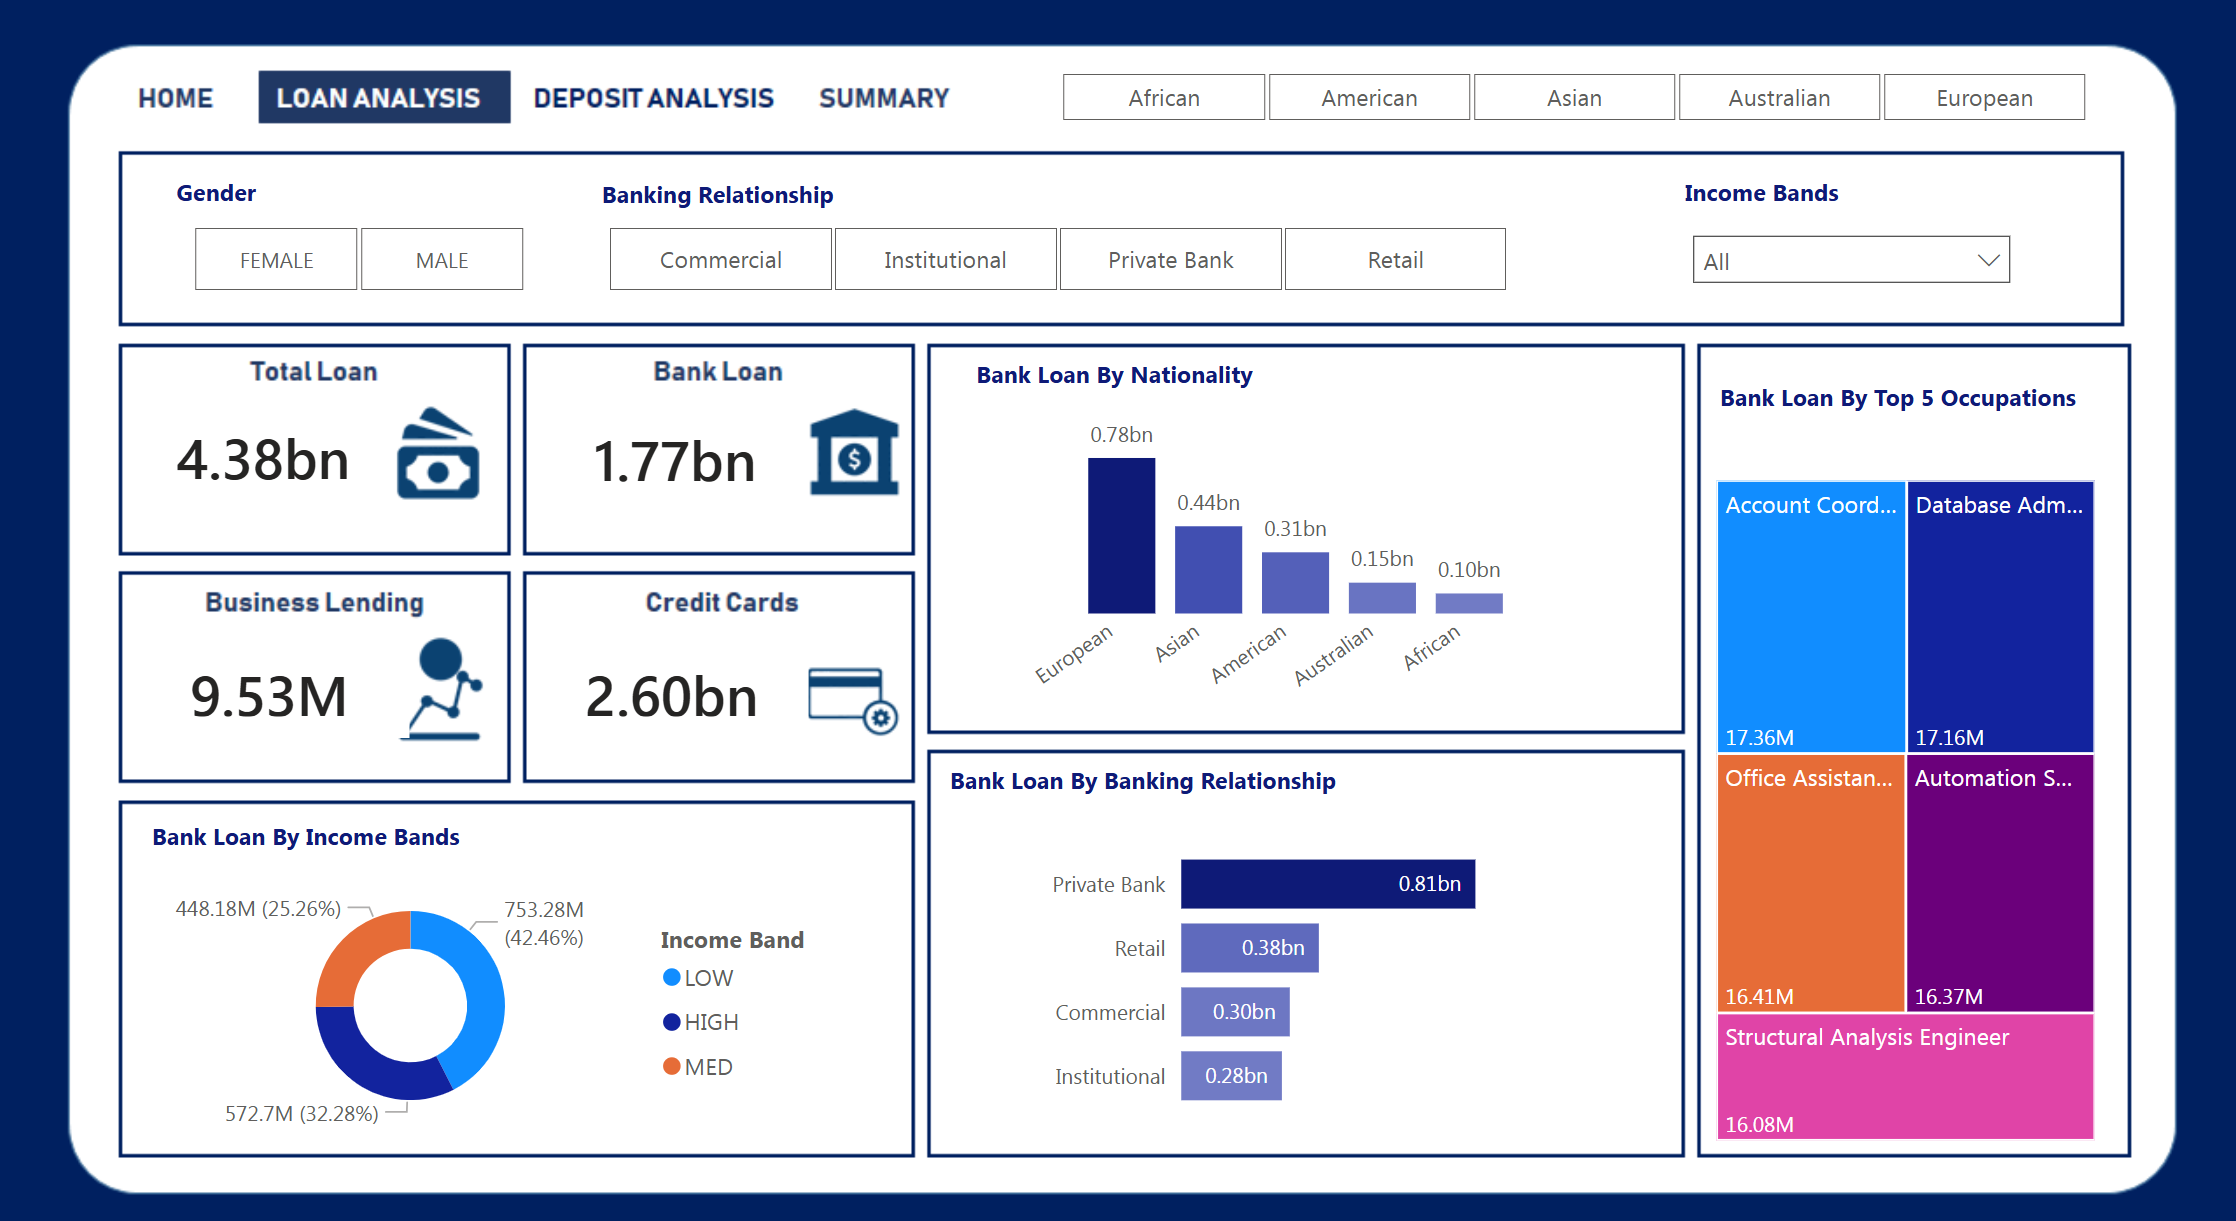

What the dashboard file says about the page in this screenshot:
{"tool":"powerbi","page":{"name":"Loan Analysis","canvas":[1280,720],"ordinal":1},"visuals":[{"type":"actionButton","box":[70,40,65.6,40],"z":0},{"type":"actionButton","box":[302.2,40,141.1,40],"z":1000},{"type":"actionButton","box":[454.4,40,100,40],"z":2000},{"type":"cardVisual","fields":{"Data":["Banking_Clients.total loan"]},"box":[70,232.2,163.3,63.3],"z":3000},{"type":"cardVisual","fields":{"Data":["Sum(Banking_Clients.Bank Loans)"]},"box":[305.6,233.3,162.2,63.3],"z":4000},{"type":"cardVisual","fields":{"Data":["Sum(Banking_Clients.Credit Card Balance)"]},"box":[70,367.8,170,63.3],"z":5000},{"type":"cardVisual","fields":{"Data":["Sum(Banking_Clients.Business Lending)"]},"box":[302.2,367.8,165.6,63.3],"z":6000},{"type":"donutChart","fields":{"Category":["Banking_Clients.Income Band"],"Y":["Sum(Banking_Clients.Bank Loans)"]},"box":[86.7,504.4,397.8,150],"z":7000},{"type":"barChart","fields":{"Category":["Banking_Clients.BRId"],"Y":["Sum(Banking_Clients.Bank Loans)"]},"box":[590,468,302,186],"z":8000},{"type":"columnChart","fields":{"Category":["Banking_Clients.Nationality"],"Y":["Sum(Banking_Clients.Bank Loans)"]},"box":[583.3,232.2,302.2,186.7],"z":9000},{"type":"treemap","fields":{"Group":["Banking_Clients.Occupation"],"Values":["Sum(Banking_Clients.Bank Loans)"]},"box":[976.7,274.4,226.7,386.7],"z":10000},{"type":"slicer","fields":{"Values":["Banking_Clients.GenderId"]},"box":[86.7,127.8,237.8,48.9],"z":11000},{"type":"slicer","fields":{"Values":["Banking_Clients.Nationality"]},"box":[583.3,40,633.3,40],"z":12000},{"type":"slicer","fields":{"Values":["Banking_Clients.BRId"]},"box":[324.4,127.8,561.1,48.9],"z":13000},{"type":"slicer","fields":{"Values":["Banking_Clients.Income Band"]},"box":[958.9,128.9,201.1,40],"z":14000},{"type":"textbox","box":[97,100,58,28],"z":15000},{"type":"textbox","box":[340,101.1,152.2,27.8],"z":16000},{"type":"textbox","box":[958.9,100,105.6,32.2],"z":17000},{"type":"textbox","box":[83.3,467.8,202.2,27.8],"z":17001},{"type":"textbox","box":[538.9,435.6,240,32.2],"z":17002},{"type":"textbox","box":[554.4,204.4,185.6,27.8],"z":17003},{"type":"textbox","box":[978.9,216.7,224.4,32.2],"z":17004}]}

Visuals, with their boxes on the page's 1280x720 design canvas (x1, y1, x2, y2). These are canvas units, not pixel positions in the 2236x1221 screenshot, which may show the page scaled, cropped or inside an application window:
actionButton: bbox=[70, 40, 136, 80]
actionButton: bbox=[302, 40, 443, 80]
actionButton: bbox=[454, 40, 554, 80]
cardVisual - Banking_Clients.total loan: bbox=[70, 232, 233, 296]
cardVisual - Sum(Banking_Clients.Bank Loans): bbox=[306, 233, 468, 297]
cardVisual - Sum(Banking_Clients.Credit Card Balance): bbox=[70, 368, 240, 431]
cardVisual - Sum(Banking_Clients.Business Lending): bbox=[302, 368, 468, 431]
donutChart - Banking_Clients.Income Band x Sum(Banking_Clients.Bank Loans): bbox=[87, 504, 484, 654]
barChart - Banking_Clients.BRId x Sum(Banking_Clients.Bank Loans): bbox=[590, 468, 892, 654]
columnChart - Banking_Clients.Nationality x Sum(Banking_Clients.Bank Loans): bbox=[583, 232, 886, 419]
treemap - Banking_Clients.Occupation x Sum(Banking_Clients.Bank Loans): bbox=[977, 274, 1203, 661]
slicer - Banking_Clients.GenderId: bbox=[87, 128, 324, 177]
slicer - Banking_Clients.Nationality: bbox=[583, 40, 1217, 80]
slicer - Banking_Clients.BRId: bbox=[324, 128, 886, 177]
slicer - Banking_Clients.Income Band: bbox=[959, 129, 1160, 169]
textbox: bbox=[97, 100, 155, 128]
textbox: bbox=[340, 101, 492, 129]
textbox: bbox=[959, 100, 1064, 132]
textbox: bbox=[83, 468, 286, 496]
textbox: bbox=[539, 436, 779, 468]
textbox: bbox=[554, 204, 740, 232]
textbox: bbox=[979, 217, 1203, 249]
